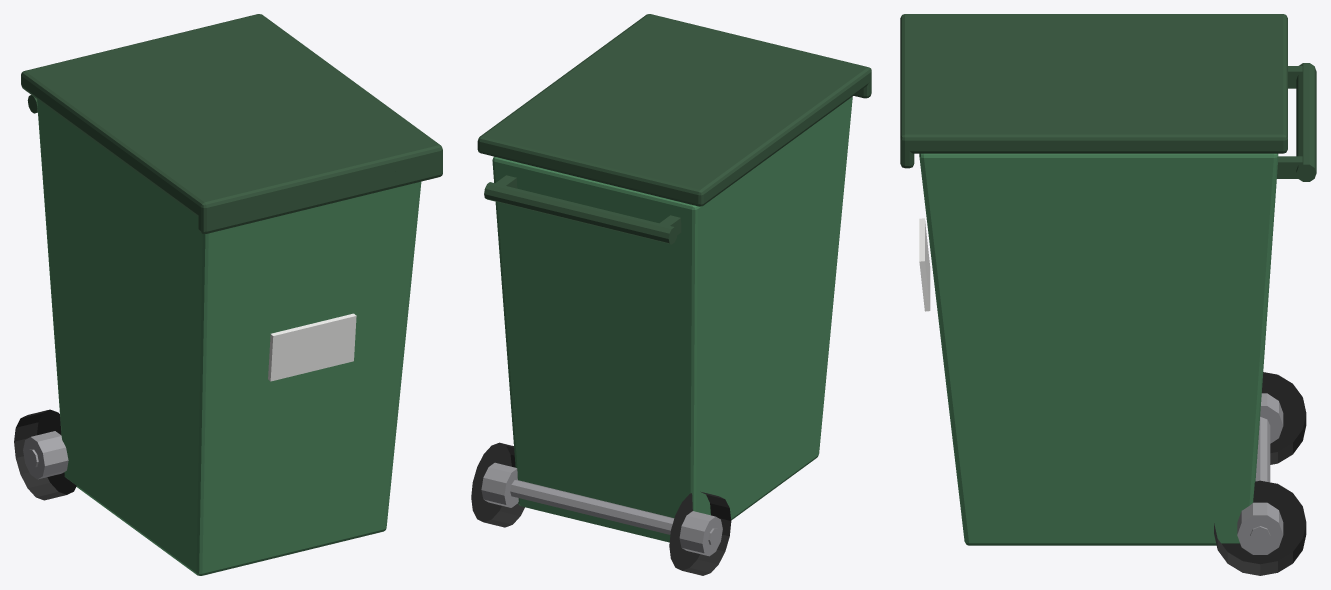
File: wheelie-bin-trash.glb
3 renders of one model, left to right at view 1: azimuth 30°, elevation 25°; view 2: azimuth 150°, elevation 25°; view 3: azimuth 270°, elevation 25°, orthographic. The views are drawn at different scales.
Parts seen in each view (by area): view 1: body, lid, emblem, wheels; view 2: body, lid, wheels, handle; view 3: body, lid, wheels, handle, emblem.
Part boxes in pixels (x1,y1,x2,y2): body: [37, 99, 421, 575]; lid: [21, 14, 442, 233]; emblem: [268, 313, 356, 381]; wheels: [14, 409, 76, 500]; body: [492, 97, 852, 542]; lid: [477, 14, 871, 206]; wheels: [471, 442, 731, 575]; handle: [484, 175, 681, 244]; body: [919, 153, 1278, 545]; lid: [900, 14, 1287, 168]; wheels: [1214, 372, 1306, 575]; handle: [1277, 63, 1316, 181]; emblem: [919, 218, 930, 311].
Bounding box in the file's own units: 0.64 × 1.05 × 0.902.
